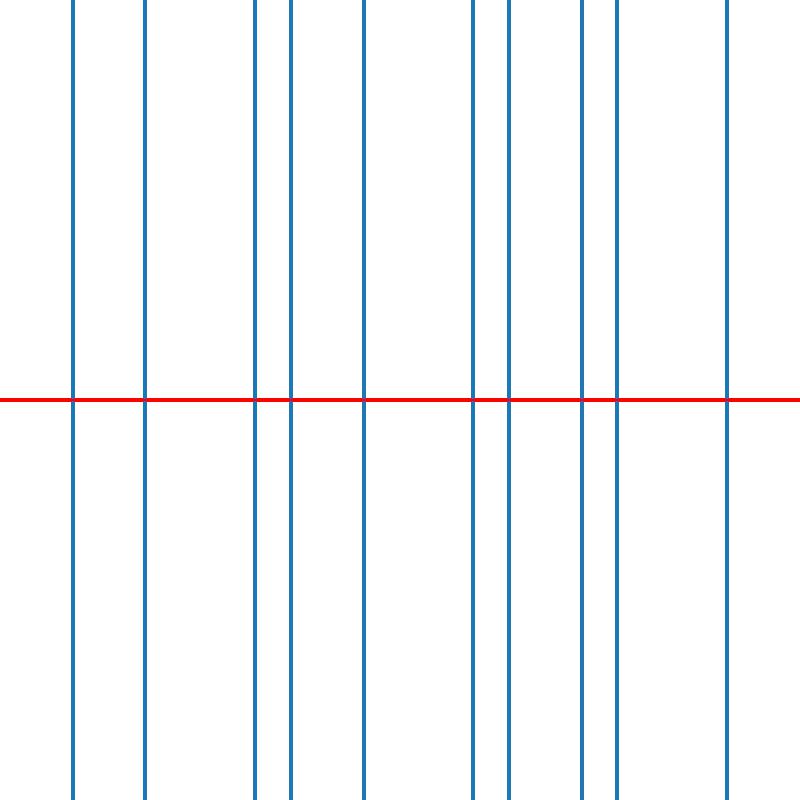root: (250, 396, 258, 404), (141, 396, 149, 404), (287, 396, 294, 404), (578, 396, 585, 404), (360, 396, 367, 404), (469, 396, 476, 404), (723, 396, 730, 404), (69, 396, 76, 404), (614, 396, 621, 404), (505, 396, 512, 404)
